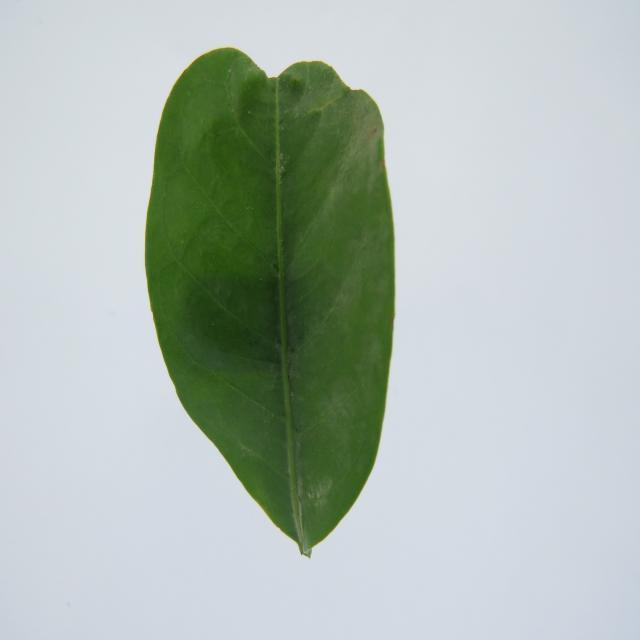DeficienciaNutricional-Boro: (145, 48, 395, 557)
